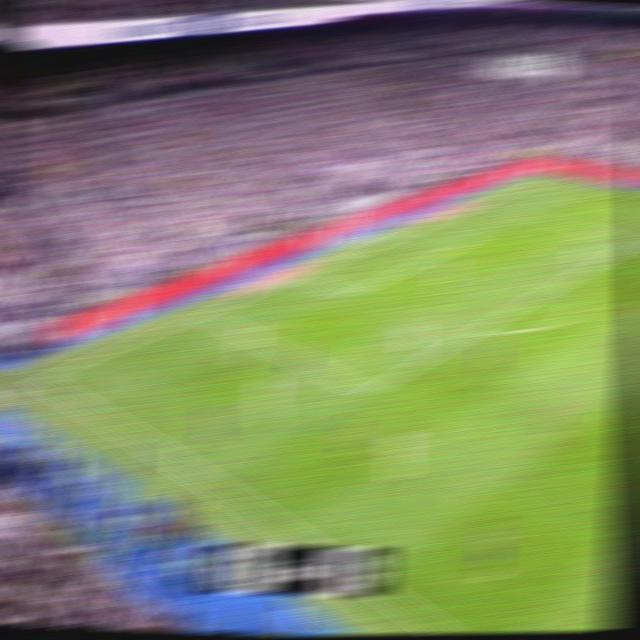bigarea_bottom_inner: (356, 380, 381, 402)
bigarea_bottom_outter: (193, 306, 217, 321)
bigarea_top_inner: (623, 235, 640, 248)
bigarea_top_outter: (475, 195, 498, 207)
bottom_arc_area_intersection: (464, 322, 489, 337)
corner: (538, 170, 562, 180)
smallarea_bottom_inner: (336, 285, 360, 302)
smallarea_top_inner: (459, 235, 479, 246)
top_arc_area_intersection: (558, 271, 580, 285)
